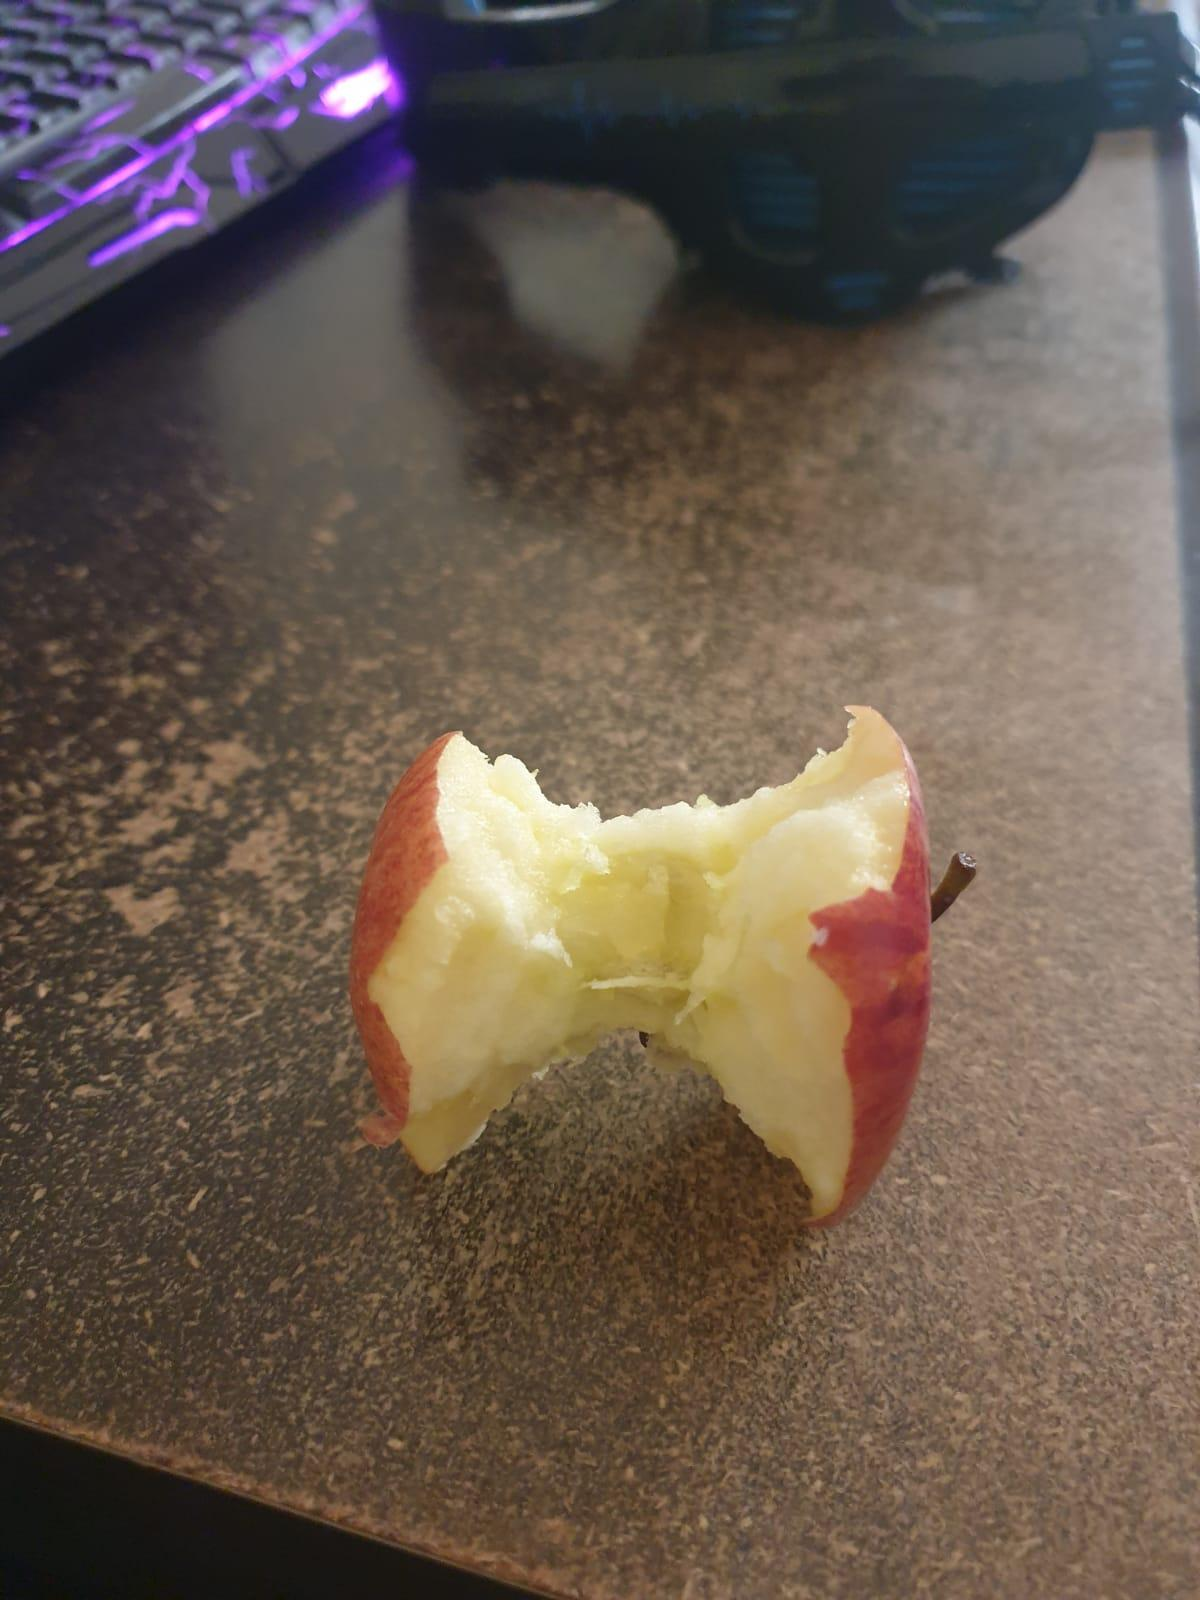Apple: (340, 704, 1011, 1233)
